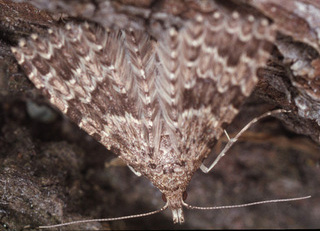Alucitidae: (8, 4, 315, 225)
moth: (10, 6, 317, 227)
